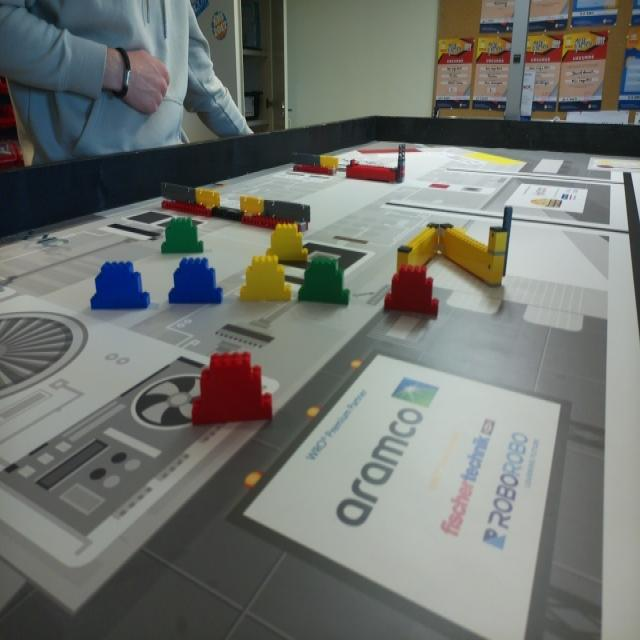blau: (91, 261, 150, 305), (170, 258, 222, 301)
gruen: (305, 257, 354, 304), (164, 219, 203, 252)
rot: (187, 348, 275, 426), (385, 264, 439, 317)
yellow: (238, 258, 293, 301), (266, 223, 308, 261)
